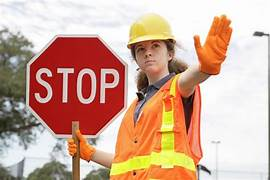stop: (27, 35, 128, 141)
